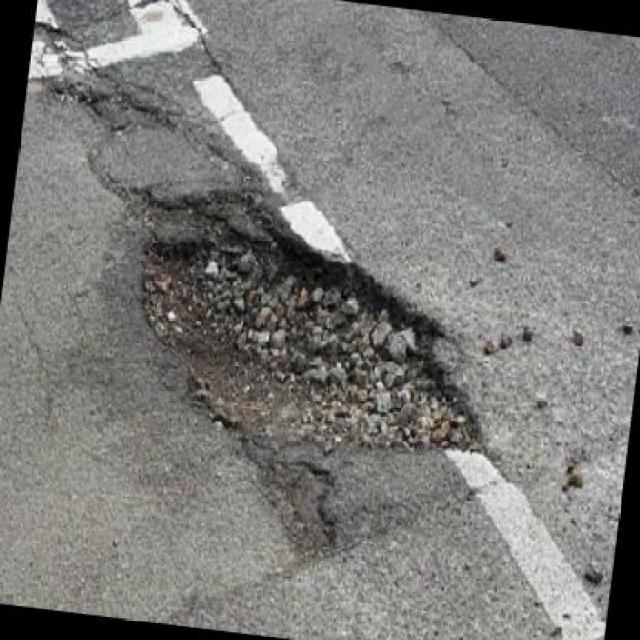pothole1: (118, 187, 513, 475), (258, 452, 348, 568), (44, 65, 174, 141)
